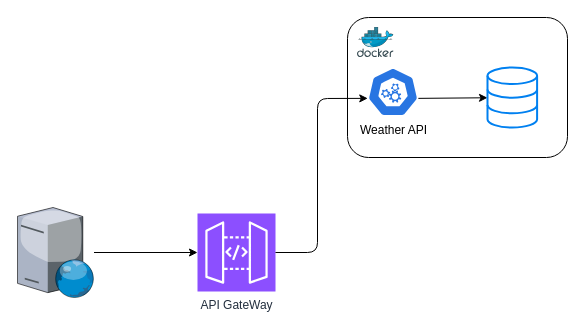
Some shapes in this 585 by 336 pixel diagram are drawn without their labels. The shapes that lost their labels are listed below. From the top down, each one's centre as x and y in pixels, then its label:
the point at 512,97: Weather data
the point at 55,252: Web server
